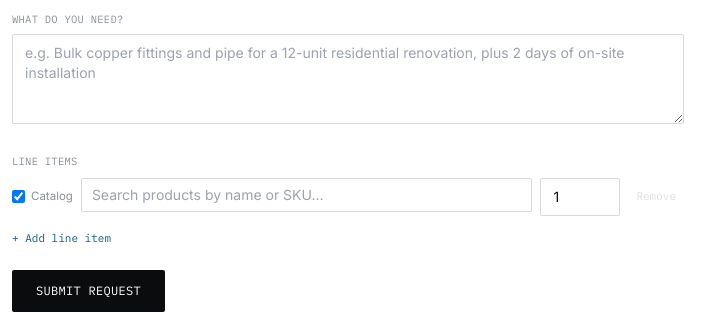
Test: QuoteRequestForm › submits the searched-and-selected catalog product's own name as the item description, not a blank one
Later steps or results of the test are not shown.
In the text box with placeholder "Bulk copper fittings": (348, 79) [12,34,684,124], type "Need copper pipe for a renovation job"
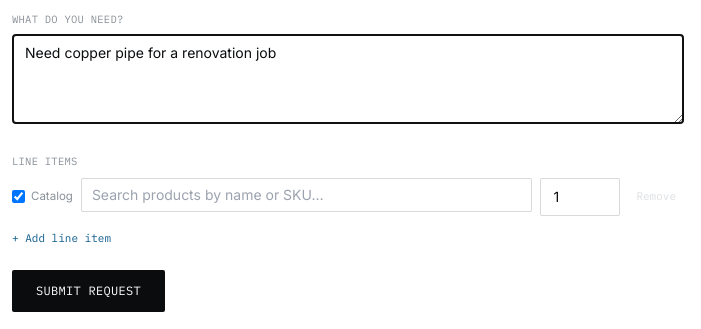
In the field with placeholder "Search products by name or SKU…": (307, 194) [81,178,532,212], type "copper"
Wait 300 ms
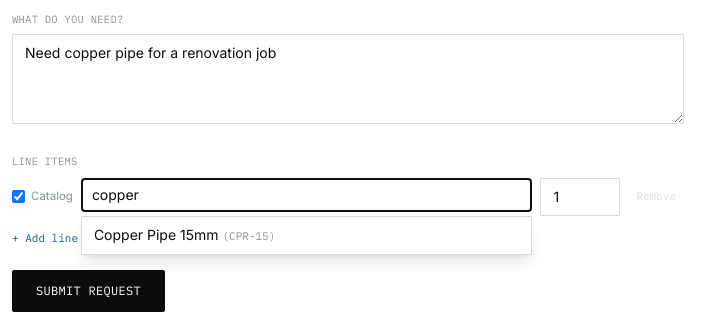
Result: the button "Copper Pipe 15mm (CPR-15)" is shown at [82,216,531,254]
